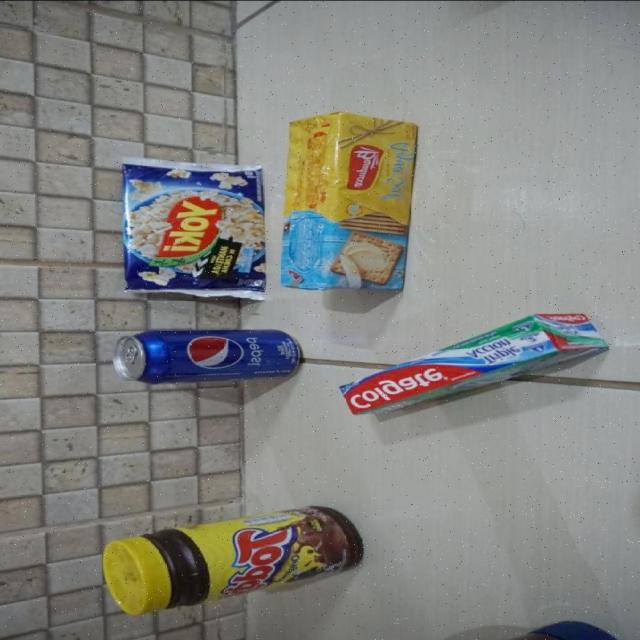ChocolatePowder: (99, 510, 374, 610)
Cracker: (278, 111, 417, 293)
Popcorn: (117, 157, 267, 302)
SodaCan: (110, 327, 299, 381)
Toothpaste: (337, 315, 602, 416)
